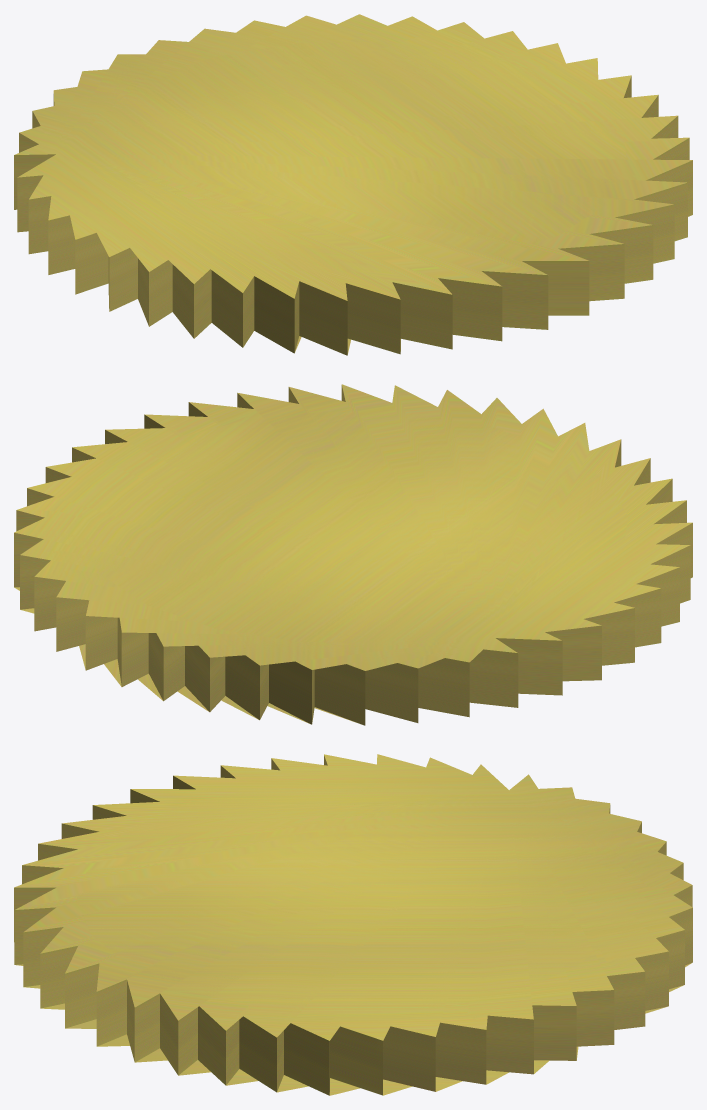
The model's file is ClockAngleFacet4Spoke040.fbx.
3 renders of one model, top to bottom at view 1: azimuth 30°, elevation 25°; view 2: azimuth 150°, elevation 25°; view 3: azimuth 270°, elevation 25°, orthographic.
Parts seen in each view (by area): view 1: ClockAngleFacet4Spoke040; view 2: ClockAngleFacet4Spoke040; view 3: ClockAngleFacet4Spoke040.
Boxes of the visible parts, x1=… form: ClockAngleFacet4Spoke040: x1=14, y1=14, x2=692, y2=355; ClockAngleFacet4Spoke040: x1=14, y1=384, x2=692, y2=725; ClockAngleFacet4Spoke040: x1=14, y1=754, x2=692, y2=1095.
Bounding box in the file's own units: 221 × 19.69 × 221.
